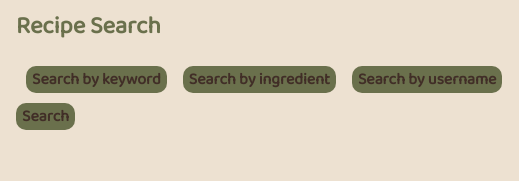
Search component › displays error message if error occurs during search
Click the button "Search" at (46, 116), box [16,103,75,130]
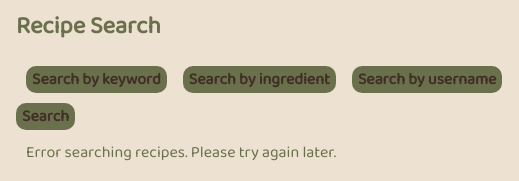
Expected: the text "Error searching recipes. Please try again later." is shown, [26,140,336,165]
